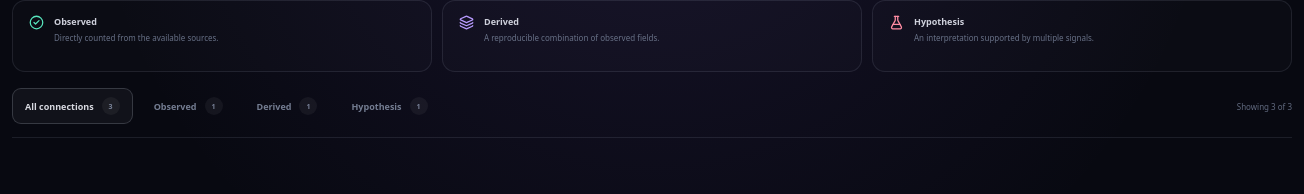
Test: InsightStack › explains evidence levels and reports filtered results
This screenshot has width=1304, height=194.
expect the text "Directly counted from the available sources." is shown: met, box [54,32,218,44]
expect the text "A reproducible combination of observed fields." is shown: met, box [484,32,659,44]
Click the button "Hypothesis 1": (390, 106) [338,88,441,124]
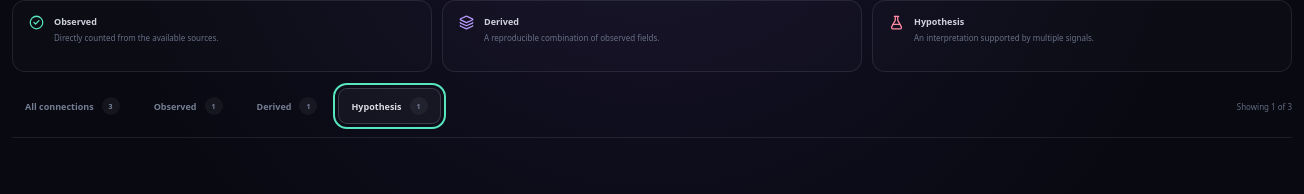
expect the message reads "Showing 1 of 3": met, box [1237,100,1292,112]
